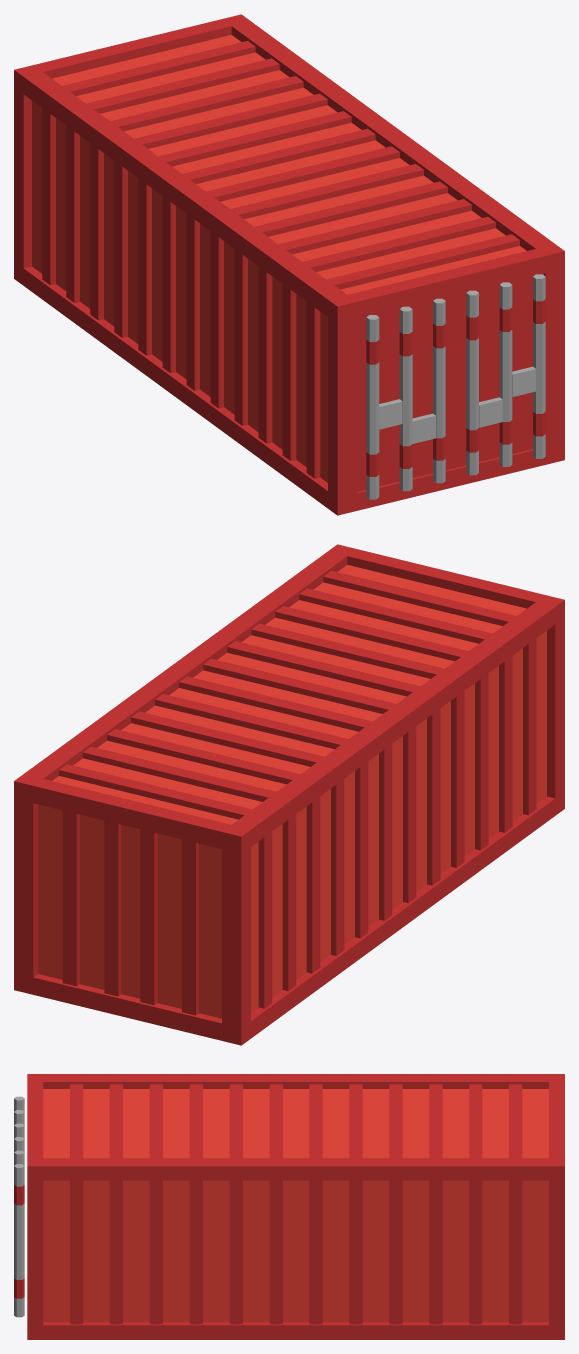
File: Container2.fbx
3 renders of one model, top to bottom at view 1: azimuth 30°, elevation 25°; view 2: azimuth 150°, elevation 25°; view 3: azimuth 270°, elevation 25°, orthographic. The views are drawn at different scales.
Parts seen in each view (by area): view 1: Container; view 2: Container; view 3: Container.
Boxes of the visible parts, x1,y1,x2,y2 form: Container: [14, 14, 564, 515]; Container: [14, 544, 564, 1045]; Container: [14, 1074, 564, 1339].
Bounding box in the file's own units: 410 × 360 × 1035.
